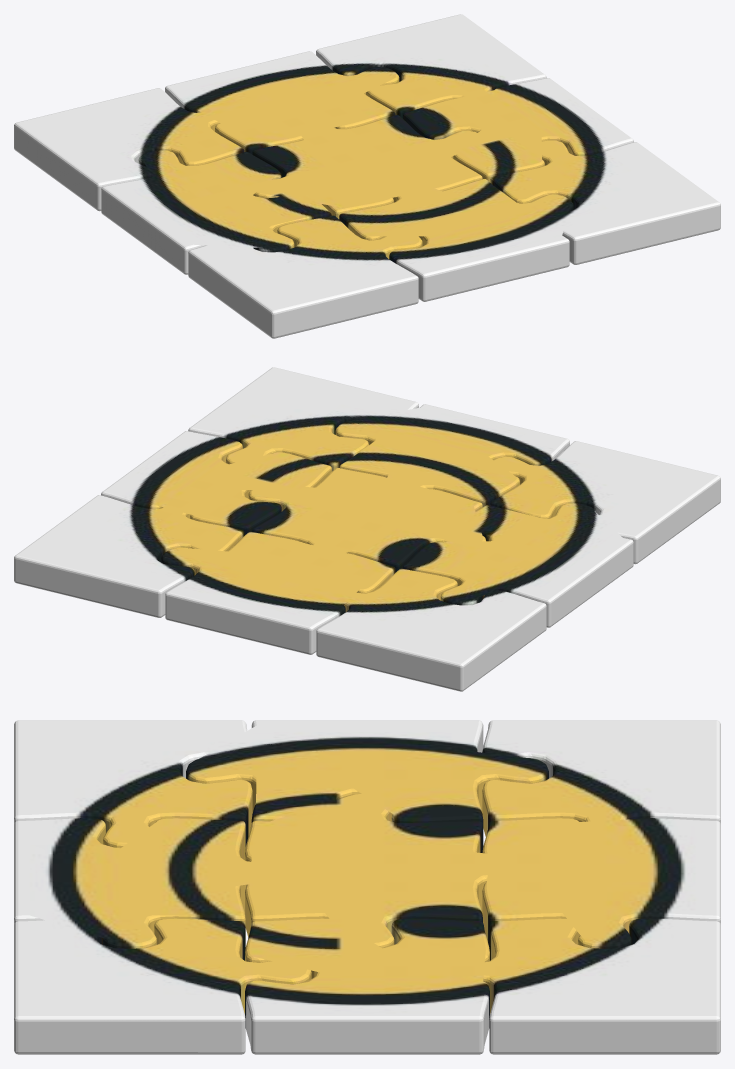
File: puzzle.fbx
3 views of the same model, one above another, from view 1: azimuth 30°, elevation 25°; view 2: azimuth 150°, elevation 25°; view 3: azimuth 270°, elevation 25° (orthographic). The views are drawn at different scales.
Visible parts, largest first — view 1: Plane, Plane.006, Plane.005, Plane.001, Plane.002, Plane.007, Plane.008, Plane.003, Plane.004; view 2: Plane.002, Plane.008, Plane.003, Plane.001, Plane, Plane.007, Plane.006, Plane.005, Plane.004; view 3: Plane.005, Plane.003, Plane.004, Plane.007, Plane.001, Plane.008, Plane.006, Plane, Plane.002.
Part boxes in pixels (left/top/right/bottom): Plane: left=188, top=215, right=422, bottom=338; Plane.006: left=339, top=179, right=573, bottom=301; Plane.005: left=490, top=140, right=720, bottom=264; Plane.001: left=101, top=150, right=331, bottom=274; Plane.002: left=14, top=88, right=244, bottom=211; Plane.007: left=251, top=115, right=482, bottom=218; Plane.008: left=165, top=51, right=399, bottom=154; Plane.003: left=316, top=14, right=546, bottom=118; Plane.004: left=403, top=78, right=633, bottom=182; Plane.002: left=316, top=568, right=546, bottom=691; Plane.008: left=161, top=531, right=395, bottom=654; Plane.003: left=14, top=493, right=244, bottom=617; Plane.001: left=403, top=503, right=633, bottom=627; Plane: left=490, top=441, right=720, bottom=564; Plane.007: left=248, top=468, right=485, bottom=571; Plane.006: left=335, top=404, right=569, bottom=507; Plane.005: left=188, top=367, right=418, bottom=471; Plane.004: left=101, top=431, right=331, bottom=535; Plane.005: left=14, top=918, right=311, bottom=1054; Plane.003: left=427, top=918, right=720, bottom=1054; Plane.004: left=245, top=918, right=489, bottom=1054; Plane.007: left=245, top=793, right=489, bottom=947; Plane.001: left=186, top=720, right=548, bottom=824; Plane.008: left=482, top=818, right=720, bottom=948; Plane.006: left=14, top=818, right=251, bottom=948; Plane: left=14, top=720, right=252, bottom=847; Plane.002: left=482, top=720, right=720, bottom=836.
Bounding box in the file's own units: 137 × 8.14 × 137.
1 material, 1 textured.
